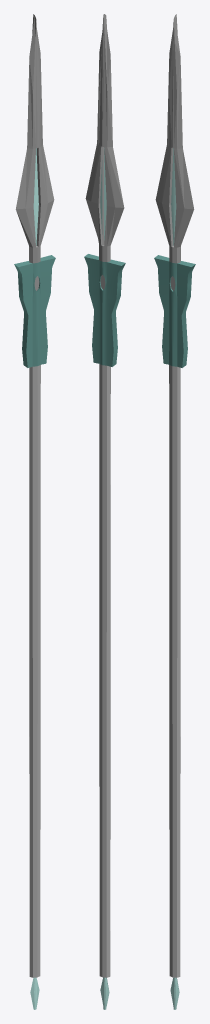
Rendered from colorSpear.fbx.
The picture shows the model from 3 angles, left to right: view 1: azimuth 30°, elevation 25°; view 2: azimuth 150°, elevation 25°; view 3: azimuth 330°, elevation 25°; orthographic projection.
Visible parts, largest first — view 1: polySurface14, polySurface11, polySurface4, polySurface7, polySurface13; view 2: polySurface14, polySurface11, polySurface4, polySurface13, polySurface8, polySurface6; view 3: polySurface14, polySurface11, polySurface4, polySurface7, polySurface13.
Boxes of the visible parts, x1,y1,x2,y2 form: polySurface14: (29, 365, 40, 977); polySurface11: (15, 14, 54, 263); polySurface4: (14, 255, 55, 367); polySurface7: (33, 148, 38, 245); polySurface13: (30, 977, 39, 1009); polySurface14: (99, 364, 110, 977); polySurface11: (85, 14, 124, 261); polySurface4: (84, 254, 125, 366); polySurface13: (100, 977, 109, 1009); polySurface8: (104, 148, 106, 240); polySurface6: (100, 160, 102, 234); polySurface14: (169, 365, 180, 977); polySurface11: (155, 14, 194, 263); polySurface4: (154, 255, 195, 367); polySurface7: (171, 148, 176, 245); polySurface13: (170, 977, 179, 1009).
Bounding box in the file's own units: 2.78 × 68.39 × 0.6378.
